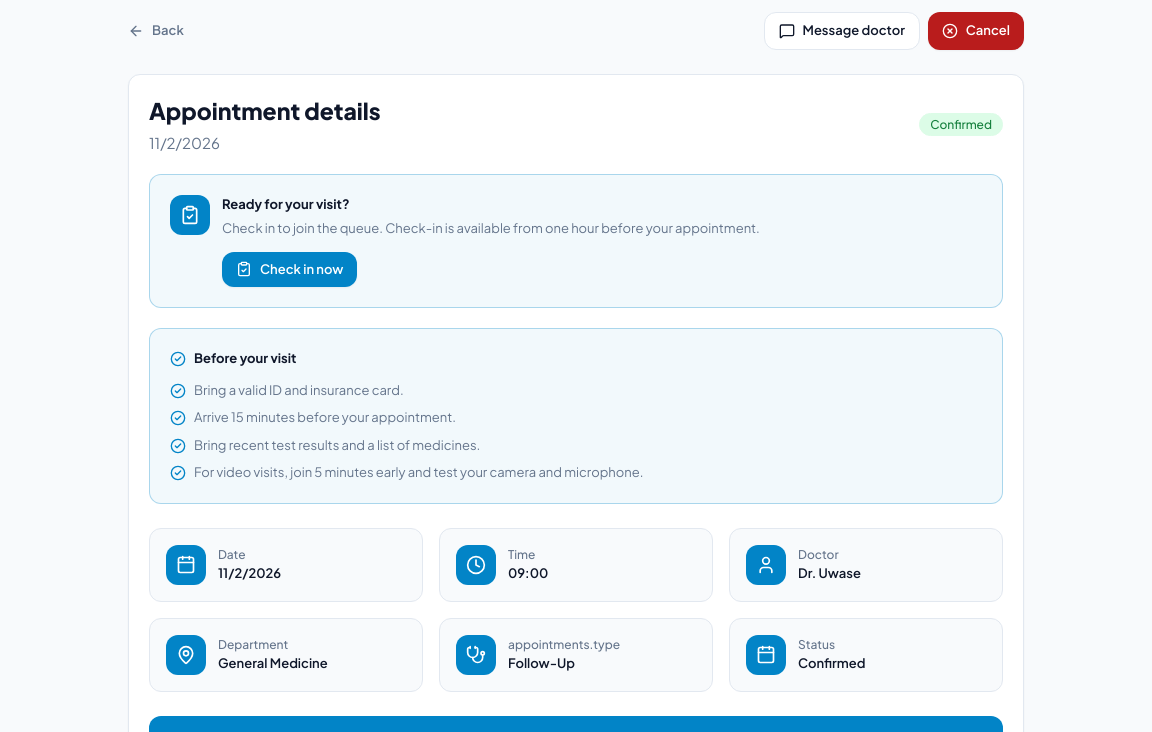
it: Appointment reschedule UI › lets the patient self check in and shows live waiting room details
Click the button "Check in now" at point(290, 269), box [222,252,357,287]
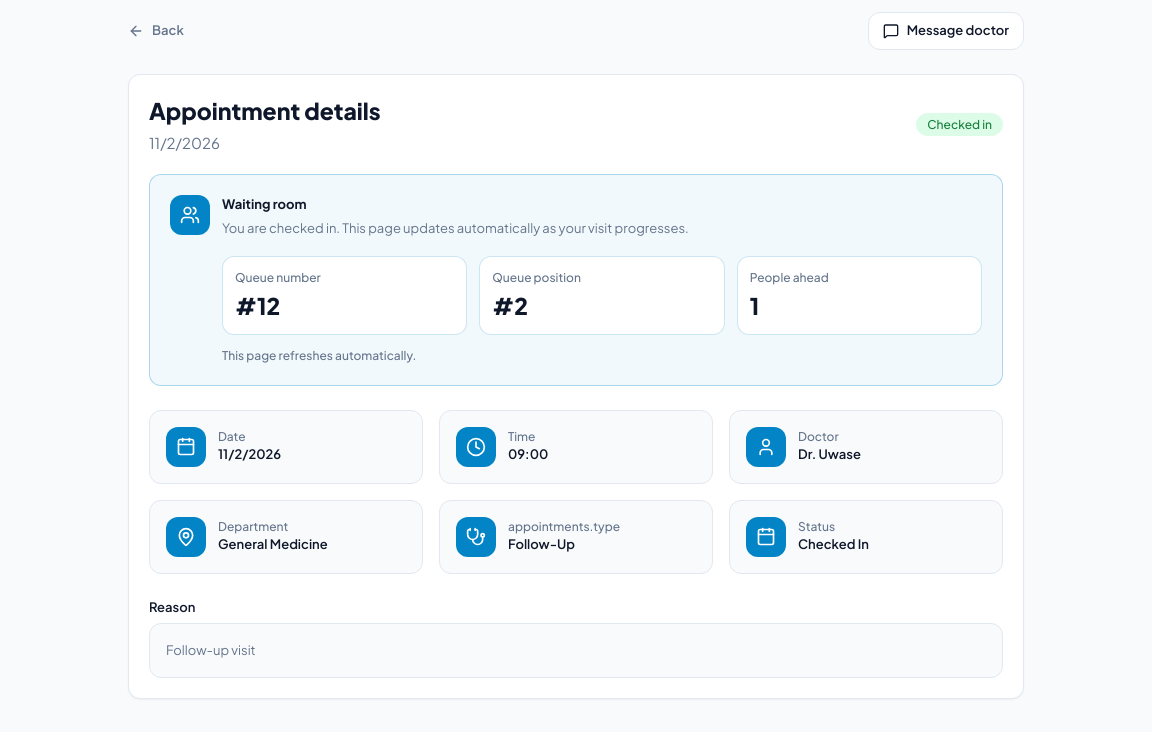
Expected: the text "#12" is shown, [235,291,280,320]
Expected: the text "Waiting room" is shown, [222,196,306,212]
Expected: the text "#2" is shown, [492,291,528,320]
